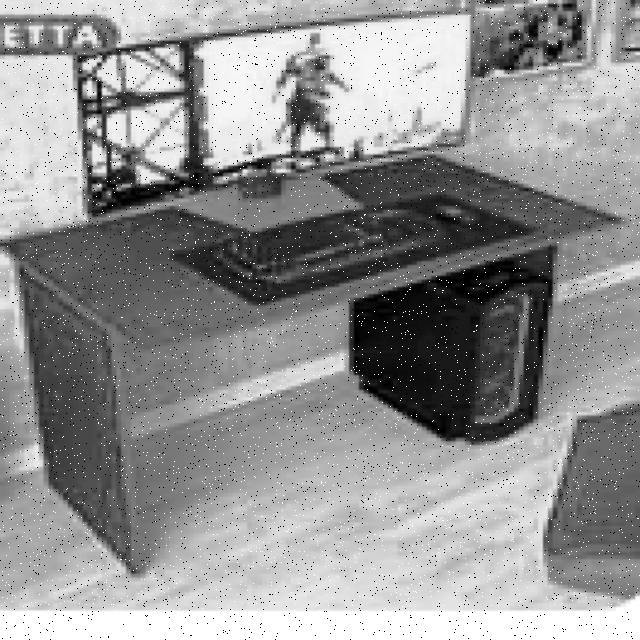table: (0, 151, 625, 574)
